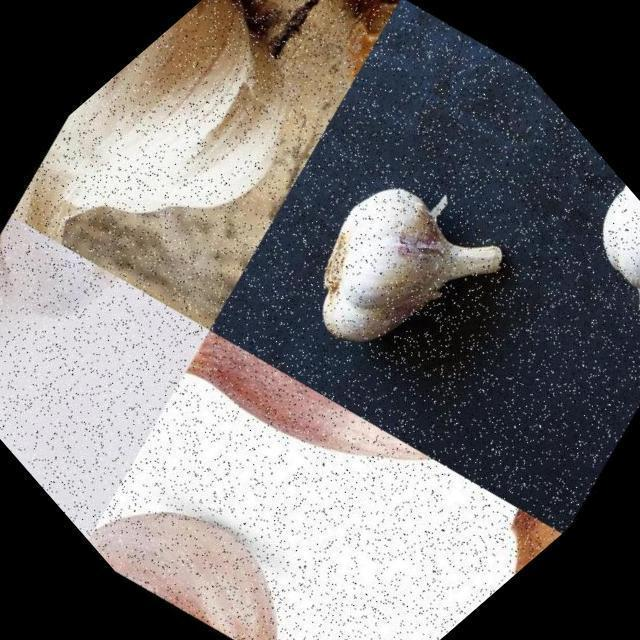garlic: (0, 0, 417, 359), (165, 267, 477, 594), (250, 125, 558, 432), (71, 415, 368, 640), (0, 182, 163, 396), (536, 169, 640, 365)
